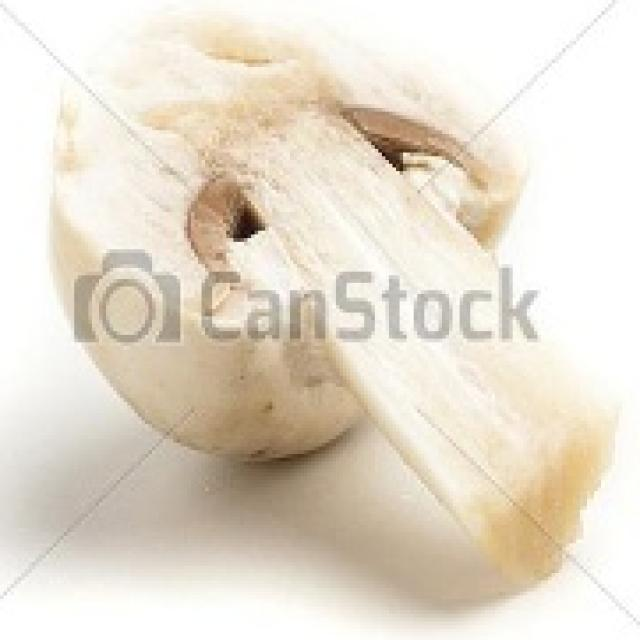mushroom: (39, 0, 622, 614)
